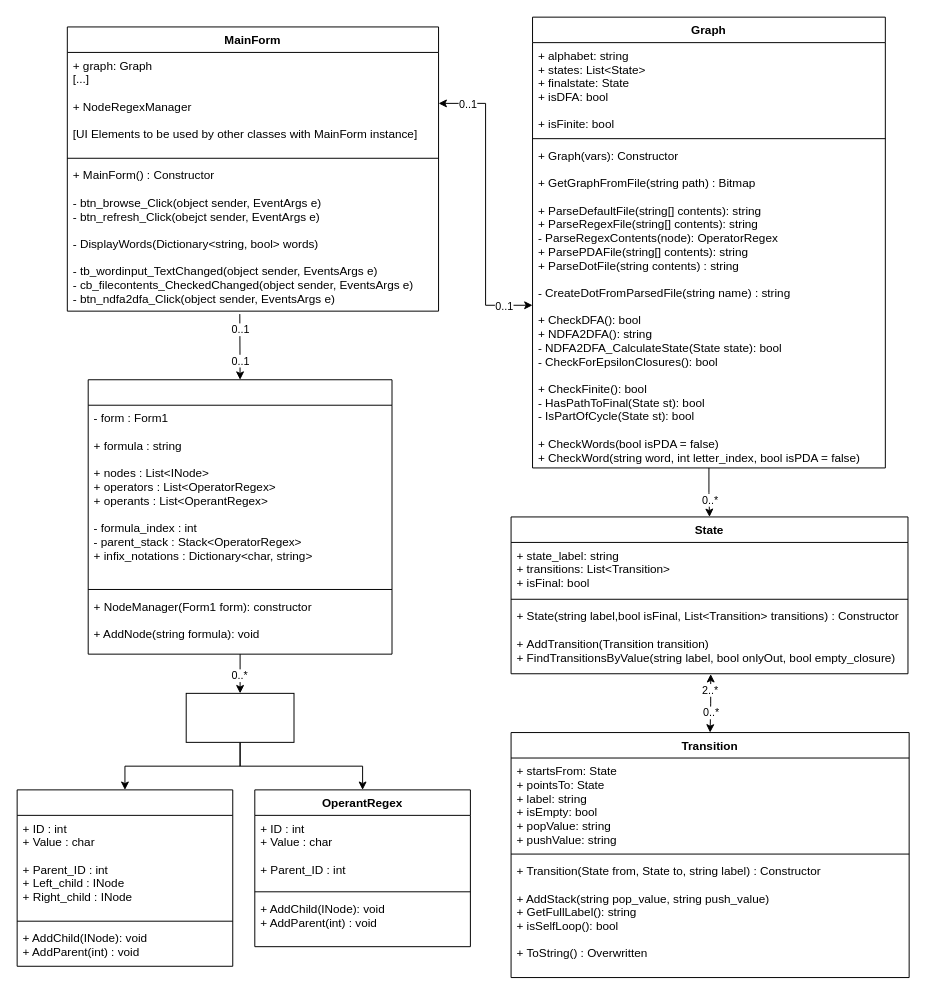
This 927x998 diagram has some shape labels left out. The shapes that lost their labels are listed below. From the top down, each one's box as (x1, y1, x2, y2) in pixels, then its label:
(87, 379, 392, 654): NodeRegexManager
(185, 692, 294, 742): «interface» INodeRegex
(16, 789, 233, 966): OperatorRegex
